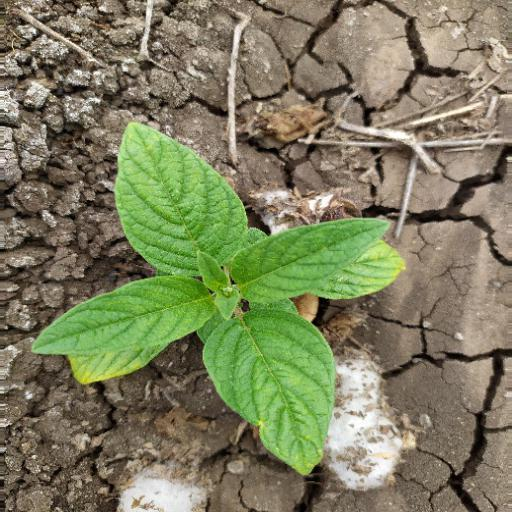crop: (31, 120, 420, 483)
